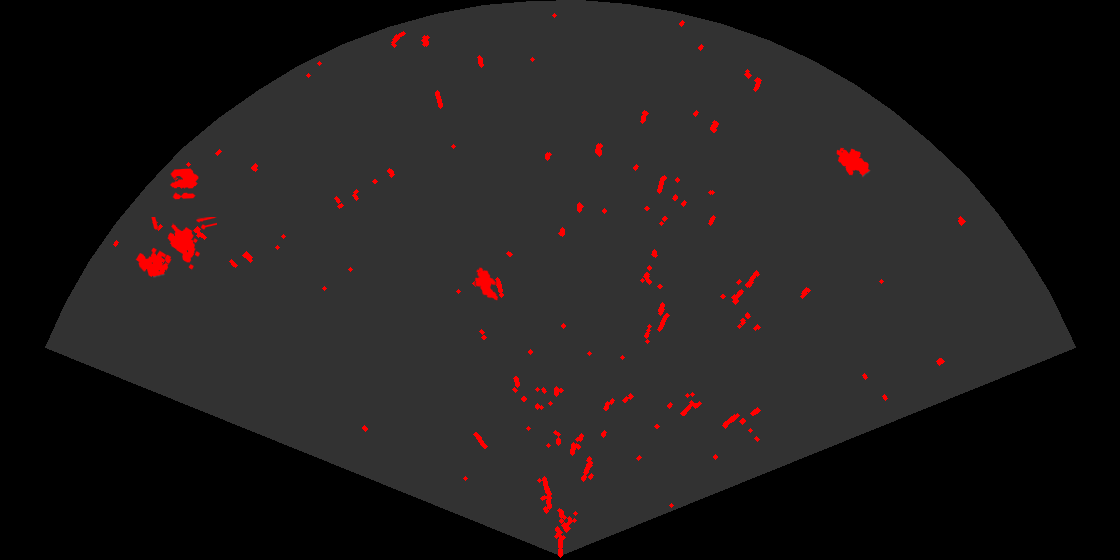AUV: (835, 146, 872, 178), (473, 266, 500, 302)
ball: (168, 167, 200, 201)
cage: (134, 217, 217, 279)
